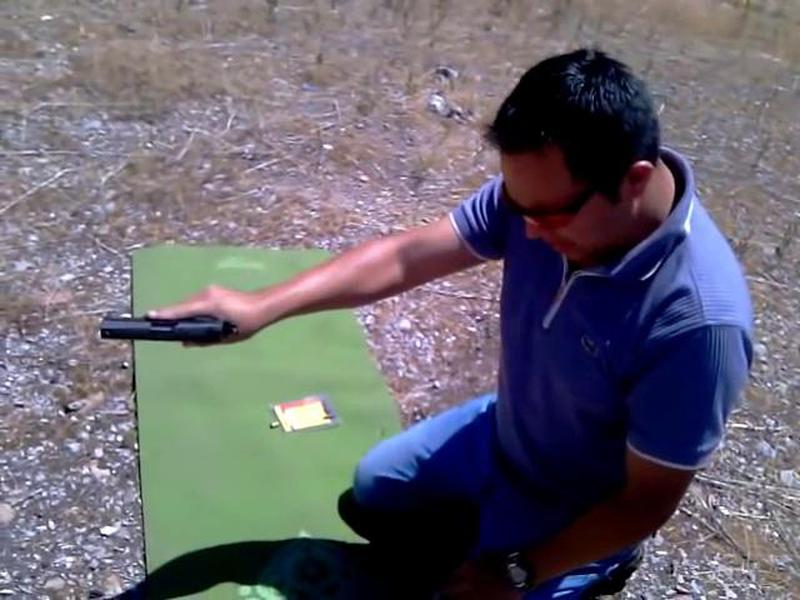Pistola: (95, 292, 244, 364)
